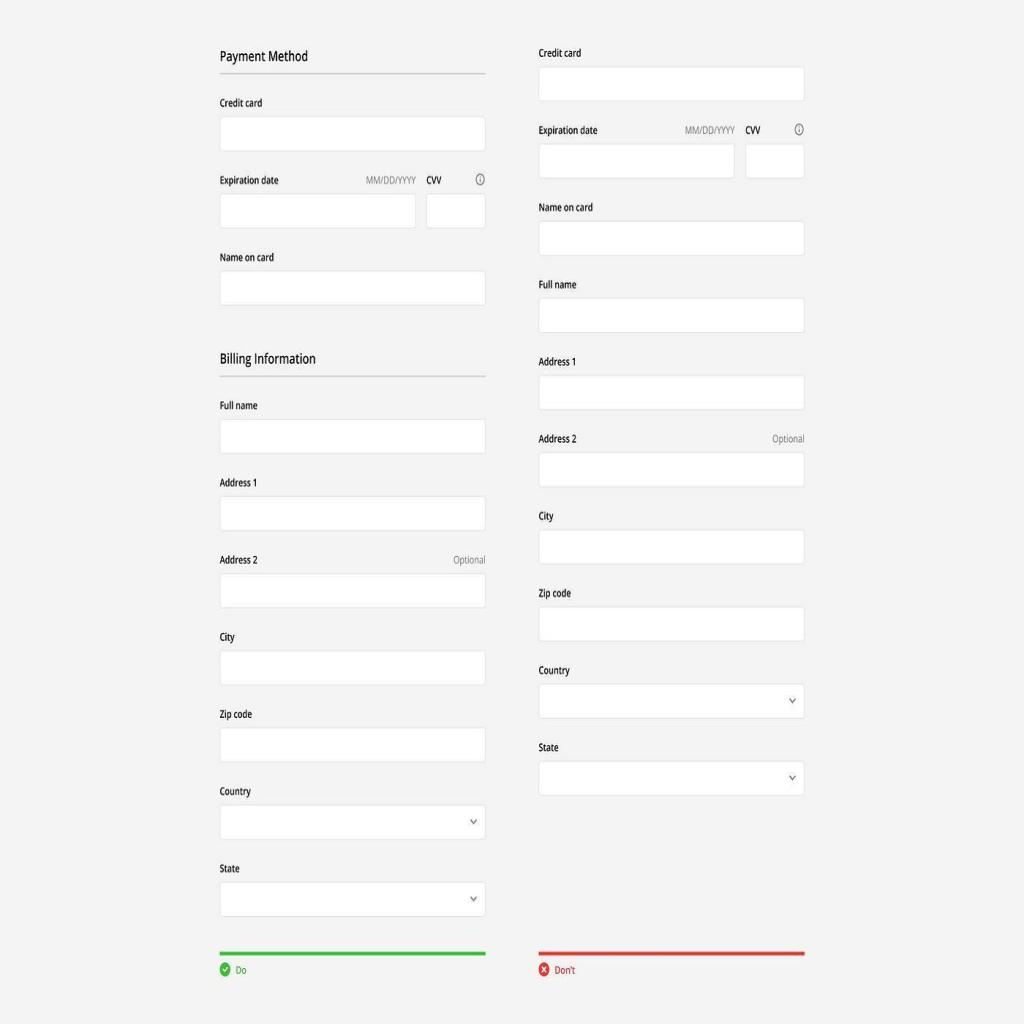dropdown: (220, 880, 486, 917), (220, 804, 486, 839), (540, 684, 804, 719), (540, 762, 805, 796)
icon: (470, 170, 488, 186), (794, 123, 804, 137)
input: (539, 607, 805, 643), (538, 221, 804, 256), (221, 270, 486, 305), (220, 728, 486, 762), (538, 530, 804, 564), (538, 376, 804, 410), (538, 299, 804, 333), (220, 118, 486, 152), (540, 453, 804, 487), (220, 419, 484, 453), (540, 68, 804, 102), (220, 652, 484, 684), (221, 575, 485, 607), (220, 498, 484, 530), (539, 144, 736, 178), (220, 196, 416, 229), (426, 196, 486, 229), (746, 146, 804, 176)
label: (217, 346, 320, 372), (218, 42, 311, 70), (218, 171, 279, 190), (535, 197, 597, 214), (215, 703, 264, 724), (533, 122, 600, 136), (536, 346, 578, 367), (534, 277, 580, 295), (218, 394, 263, 412), (534, 428, 584, 444), (215, 549, 261, 566), (536, 585, 576, 604), (537, 660, 578, 678), (538, 44, 584, 60), (214, 251, 275, 263), (216, 783, 254, 801), (217, 476, 260, 491), (213, 625, 240, 646), (217, 97, 268, 108), (218, 859, 245, 879), (534, 738, 562, 757), (742, 121, 766, 136), (536, 508, 564, 520), (424, 172, 447, 185)
